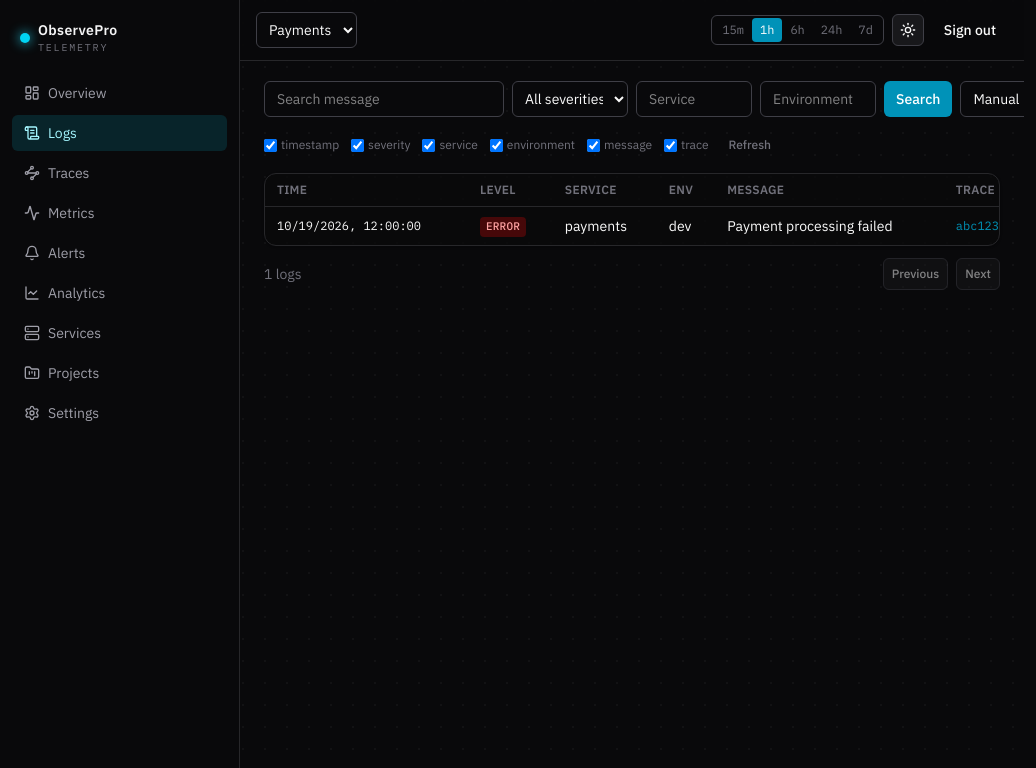
Test: dashboard › searches logs and opens the linked trace
The image size is (1036, 768).
expect the text "Payment processing failed" is shown: met, box [715,206,944,245]
Type "payment" into the field named "Search logs" at point(384, 99), box [264,81,504,117]
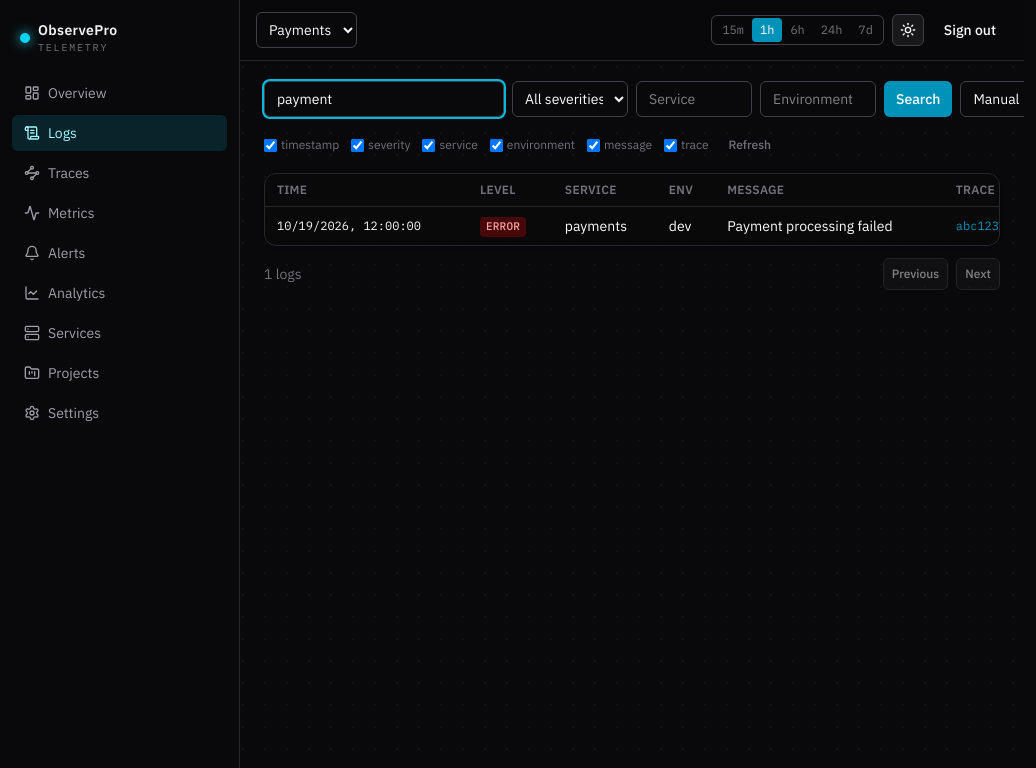
Click the button "Search" at point(918, 99), box [884,81,952,117]
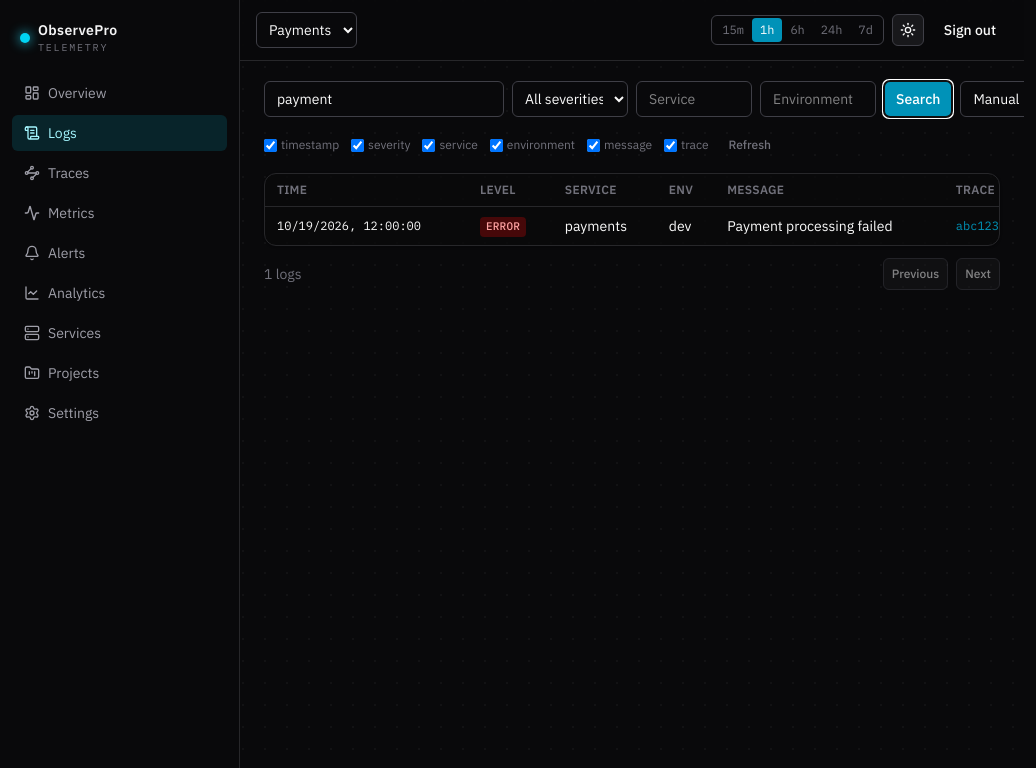
Click the link "abc123" at point(977, 225), box [956,218,999,233]
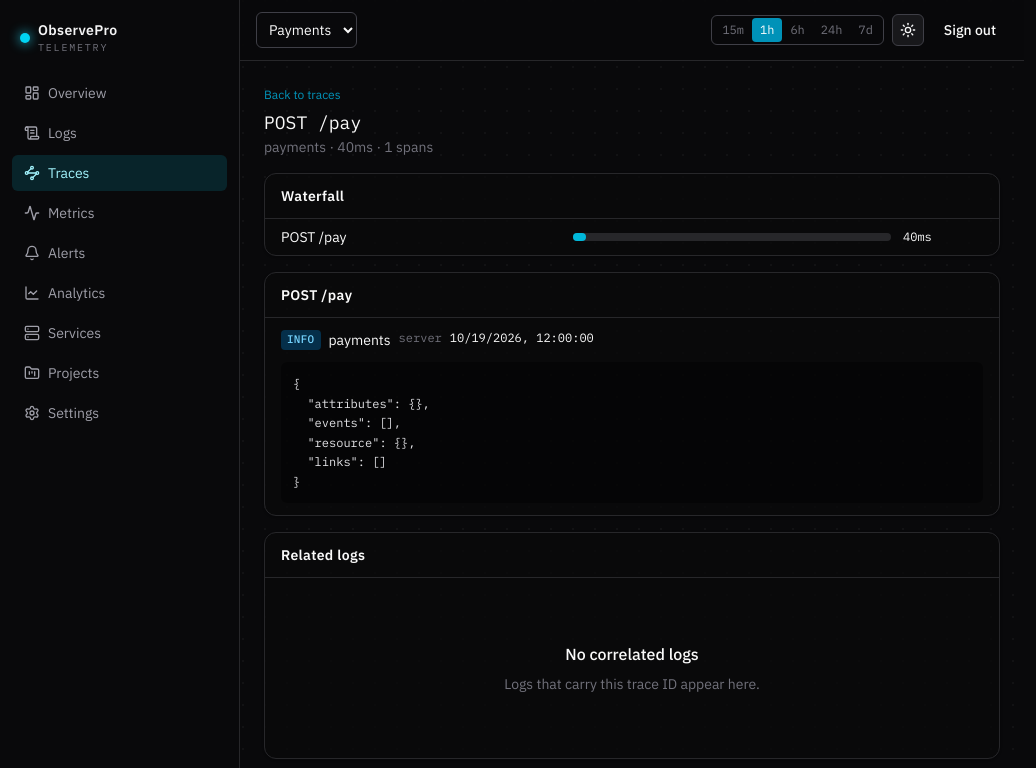
expect the heading "POST /pay" below "Back to traces" is shown: met, box [264,111,361,134]
expect the link "Back to traces" is shown: met, box [264,87,340,102]
